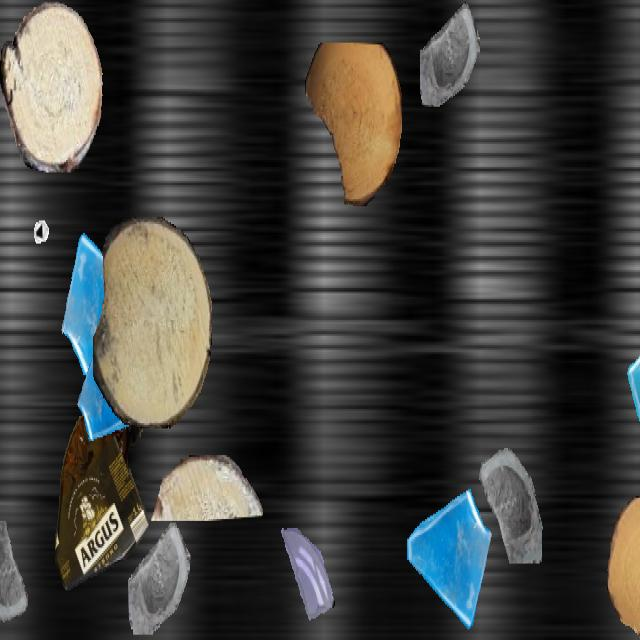glass: (59, 220, 151, 384), (403, 478, 493, 638), (469, 426, 545, 562), (77, 338, 141, 452), (128, 523, 190, 633), (420, 2, 480, 108), (278, 524, 336, 628), (0, 521, 37, 638), (624, 338, 640, 452)
metal: (31, 190, 69, 258)
plastic: (55, 398, 149, 590)
wood: (93, 217, 211, 427), (0, 2, 103, 172), (305, 43, 401, 206), (149, 455, 263, 519), (607, 496, 640, 638)
